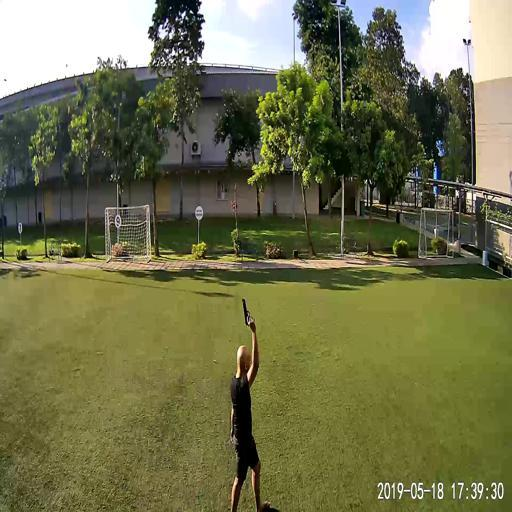Handgun: (241, 297, 251, 325)
